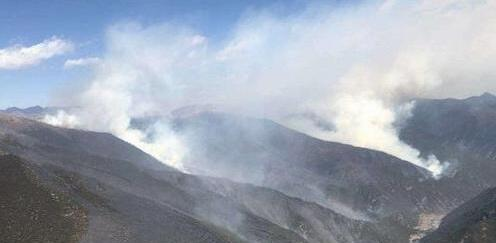yanwu: (53, 0, 493, 234)
